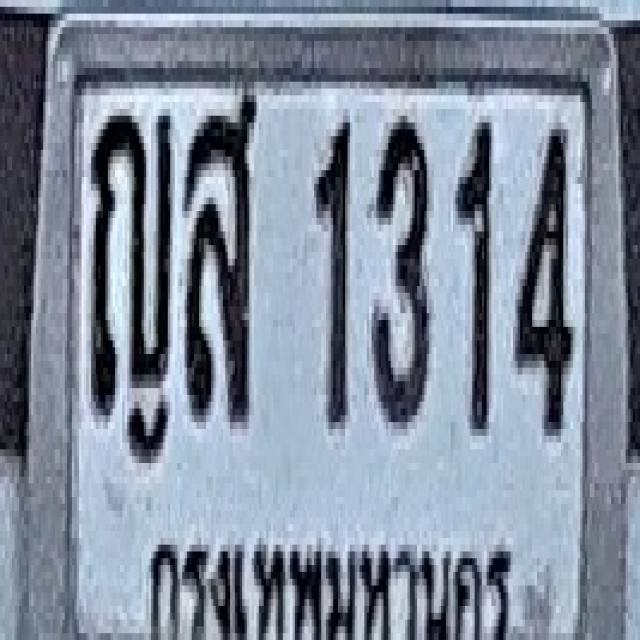1: (454, 119, 493, 432), (314, 112, 350, 426)
3: (372, 112, 429, 426)
4: (514, 119, 572, 432)
A13: (90, 105, 171, 418)
A40: (183, 85, 256, 419)
BKK: (145, 505, 519, 640)
